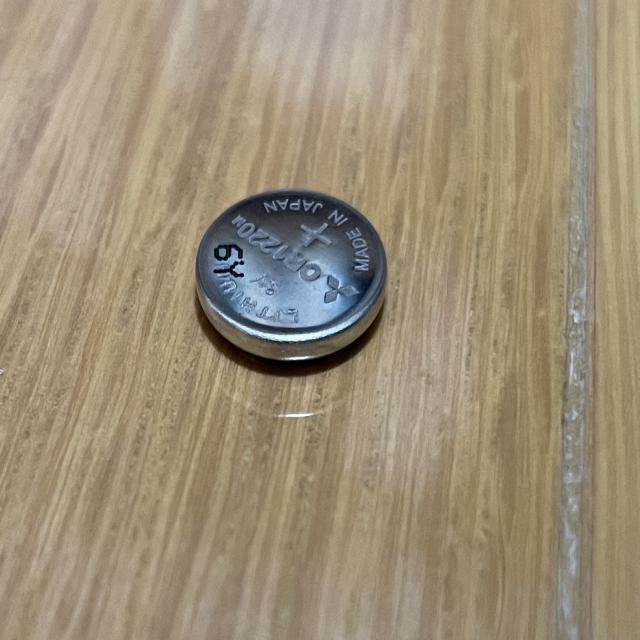COIN: (195, 190, 388, 366)
